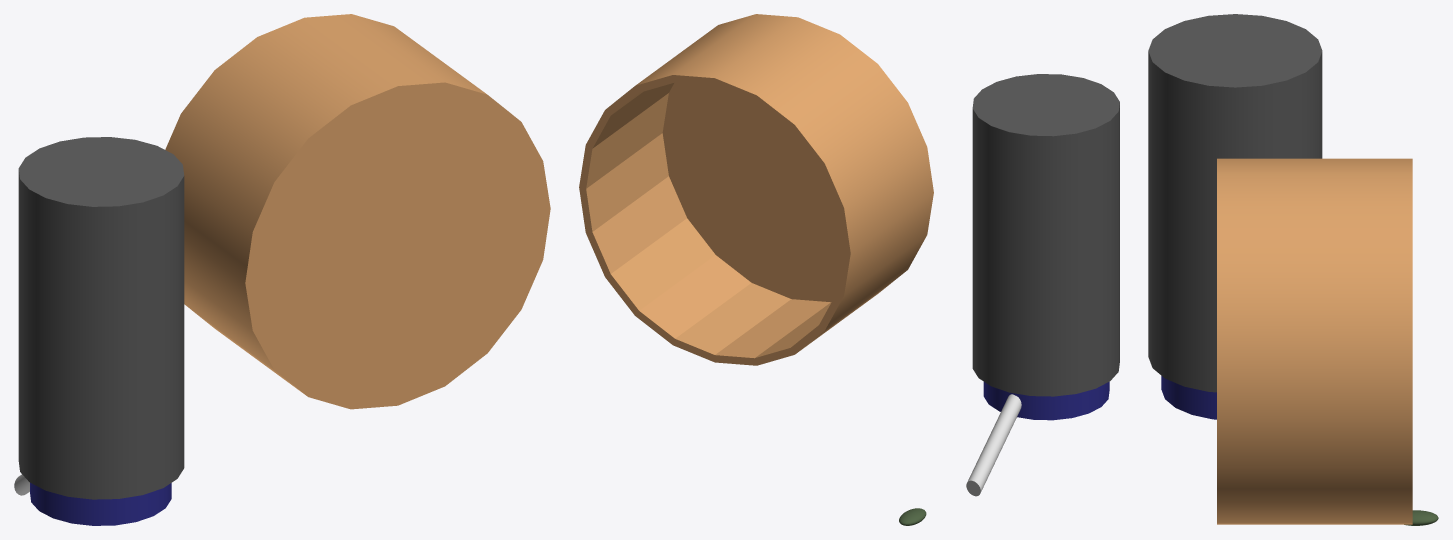
The model's file is Hamster-Stuff.fbx.
The picture shows the model from 3 angles, left to right: view 1: azimuth 30°, elevation 25°; view 2: azimuth 150°, elevation 25°; view 3: azimuth 270°, elevation 25°; orthographic projection. The views are drawn at different scales.
Visible parts, largest first — view 1: Hamster_Wheel, Water, pCylinder2; view 2: Hamster_Wheel, Water, pCylinder2, Straw; view 3: Hamster_Wheel, Water, pCylinder2, Hamster_Food.
Part boxes in pixels (left/top/right/bottom): Hamster_Wheel: left=165, top=14, right=550, bottom=409; Water: left=18, top=137, right=184, bottom=499; pCylinder2: left=30, top=482, right=171, bottom=525; Hamster_Wheel: left=579, top=14, right=933, bottom=365; Water: left=972, top=74, right=1119, bottom=396; pCylinder2: left=983, top=381, right=1109, bottom=420; Straw: left=966, top=394, right=1021, bottom=496; Hamster_Wheel: left=1217, top=158, right=1412, bottom=524; Water: left=1148, top=14, right=1322, bottom=392; pCylinder2: left=1161, top=376, right=1216, bottom=419; Hamster_Food: left=1404, top=510, right=1438, bottom=525.
Bounding box in the file's own units: 561 × 463 × 263.
